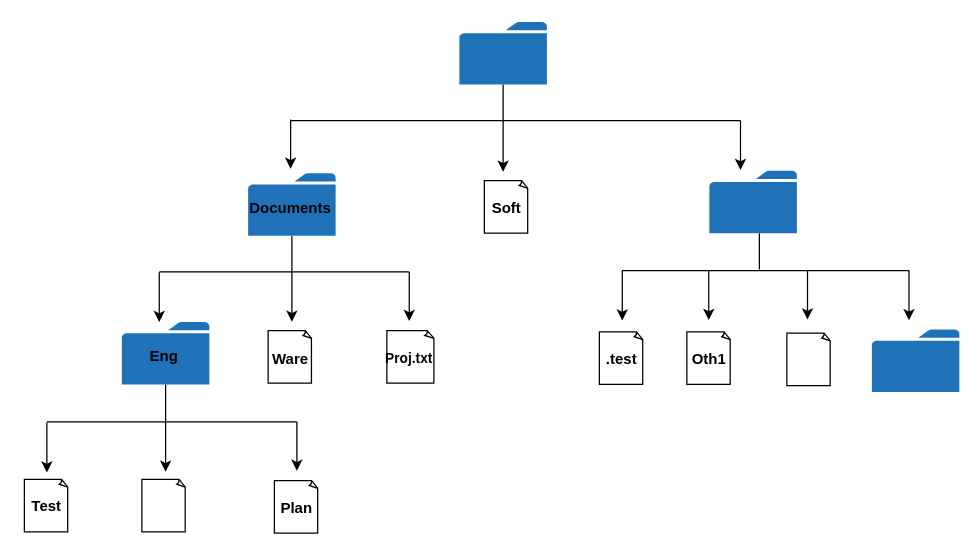
The diagram is 980 pixels wide and 555 high, and some of its shapes have lost their labels. Here are the shapes that lost their labels. From the top down, the centre of each, then its label:
the point at 502,52: tmp
the point at 752,201: Other
the point at 808,359: Oth2
the point at 915,360: Empty
the point at 163,505: Code
